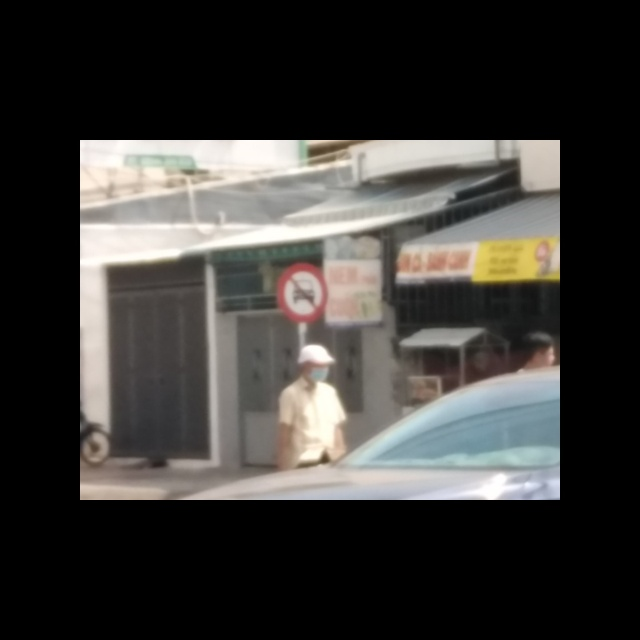Cấm xe ô tô: (275, 261, 330, 325)
